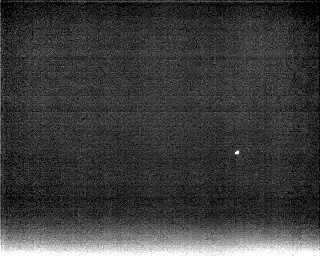BIRD: (233, 147, 242, 158)
